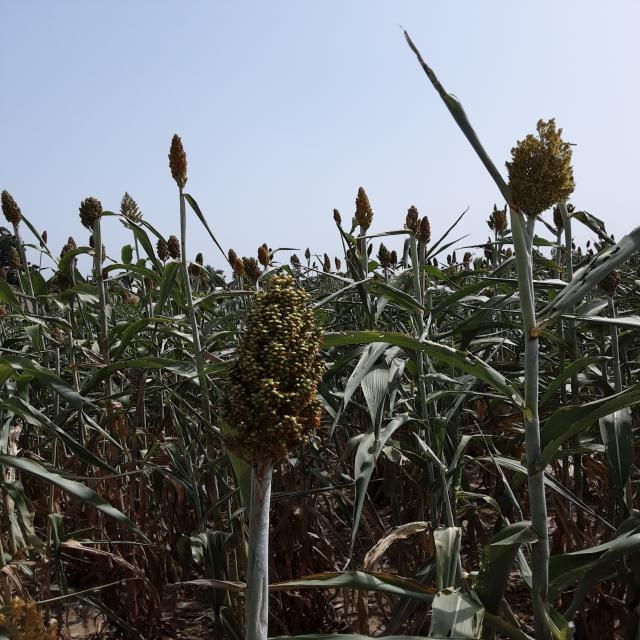UnripeSorghum: (201, 267, 349, 462), (499, 113, 584, 229)
